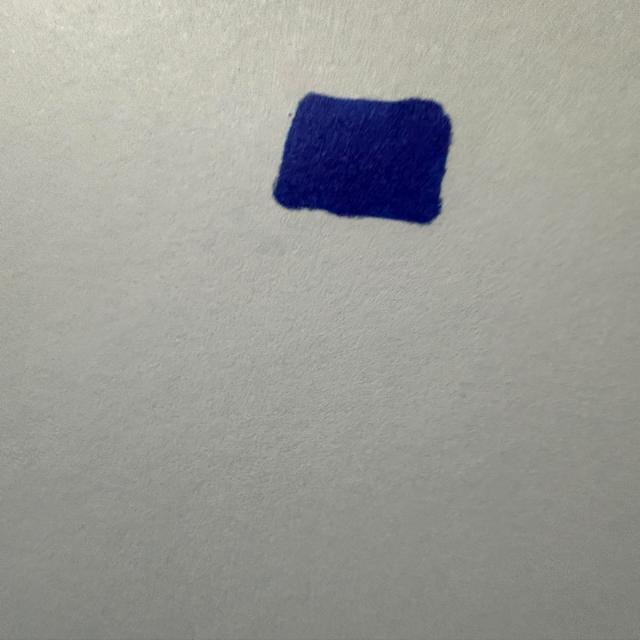Square: (273, 93, 454, 227)
